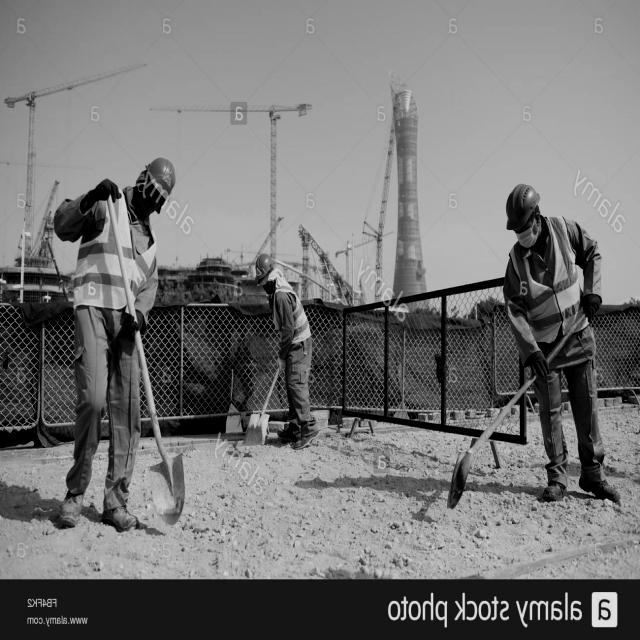face_mask: (513, 212, 540, 256)
hand_glove: (82, 170, 124, 212), (524, 344, 554, 386), (116, 306, 148, 341), (578, 292, 606, 326), (273, 349, 289, 384)
head_helmet: (505, 182, 544, 228), (148, 156, 176, 196), (256, 248, 276, 279)
person: (51, 165, 175, 532), (517, 183, 600, 504), (258, 251, 309, 453)
shoes: (100, 496, 148, 540), (52, 484, 90, 530), (576, 471, 624, 503), (288, 425, 324, 452), (540, 477, 570, 508)
vest: (78, 206, 150, 306), (518, 226, 574, 340), (267, 275, 310, 346)
